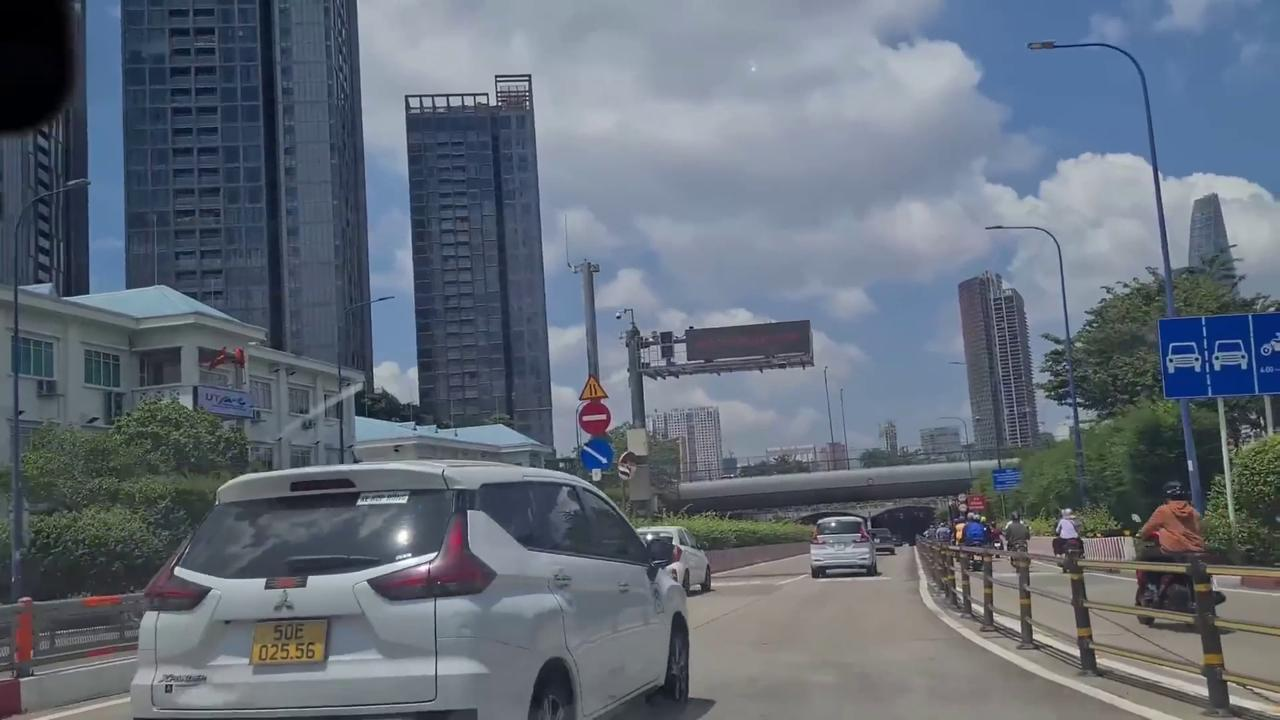Cấm đi ngược chiều: (580, 400, 611, 437)
Hướng phải đi vòng sang phải: (579, 438, 616, 473)
Làn đường cho từng xe: (1156, 310, 1275, 399)
Đuờng hẹp: (578, 373, 609, 401)
